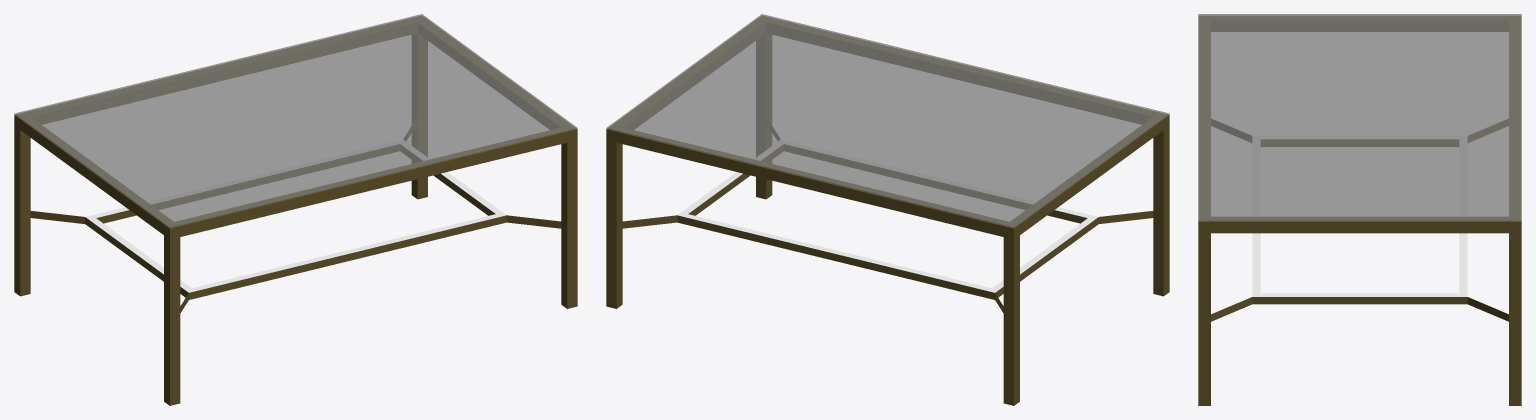
3 renders of one model, left to right at view 1: azimuth 30°, elevation 25°; view 2: azimuth 150°, elevation 25°; view 3: azimuth 270°, elevation 25°, orthographic. The views are drawn at different scales.
Visible parts, largest first — view 1: Mesh2 Granas1 Model, Mesh1 Granas1 Model; view 2: Mesh2 Granas1 Model, Mesh1 Granas1 Model; view 3: Mesh2 Granas1 Model, Mesh1 Granas1 Model.
Part boxes in pixels (x1,y1,x2,y2): Mesh2 Granas1 Model: (14, 14, 577, 227); Mesh1 Granas1 Model: (14, 16, 577, 405); Mesh2 Granas1 Model: (606, 14, 1169, 227); Mesh1 Granas1 Model: (606, 16, 1169, 405); Mesh2 Granas1 Model: (1198, 14, 1521, 221); Mesh1 Granas1 Model: (1198, 16, 1521, 405).
Size of the model in its own units: 1180 by 494 by 780.
